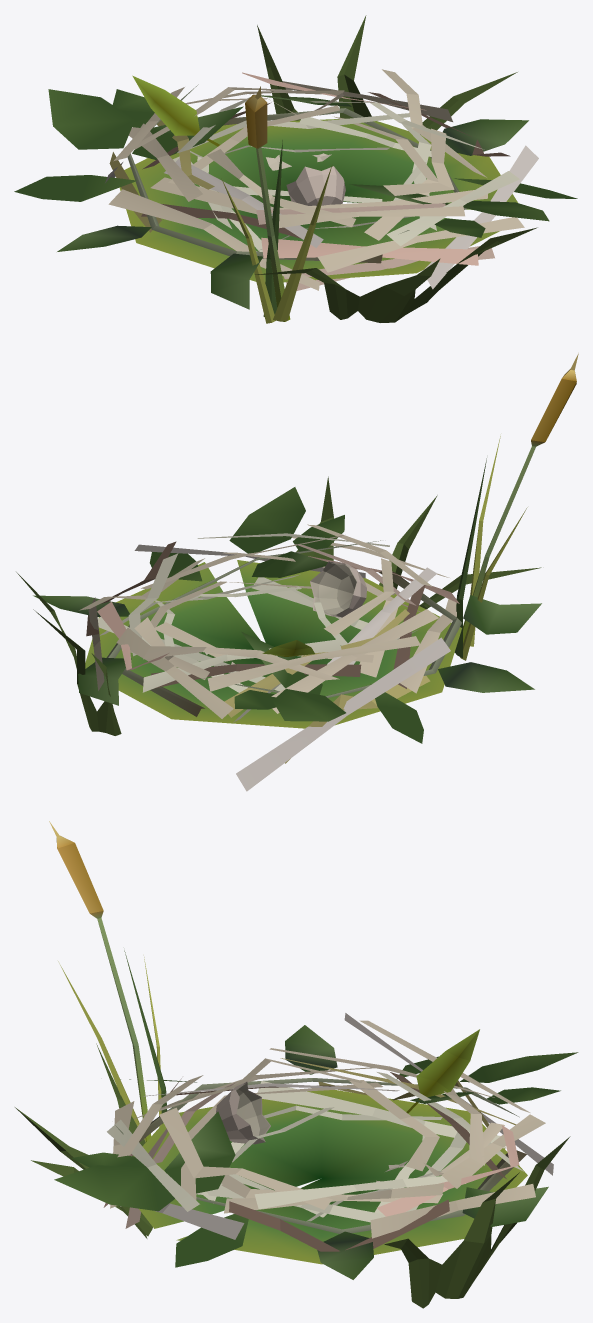
3 renders of one model, top to bottom at view 1: azimuth 30°, elevation 25°; view 2: azimuth 150°, elevation 25°; view 3: azimuth 270°, elevation 25°, orthographic. The views are drawn at different scales.
Parts seen in each view (by area): view 1: nestStage_3; view 2: nestStage_3; view 3: nestStage_3.
Boxes of the visible parts, x1,y1,x2,y2 form: nestStage_3: (14,15,577,323); nestStage_3: (16,353,578,791); nestStage_3: (15,821,578,1308).
Bounding box in the file's own units: 1.83 × 1.11 × 1.74.
